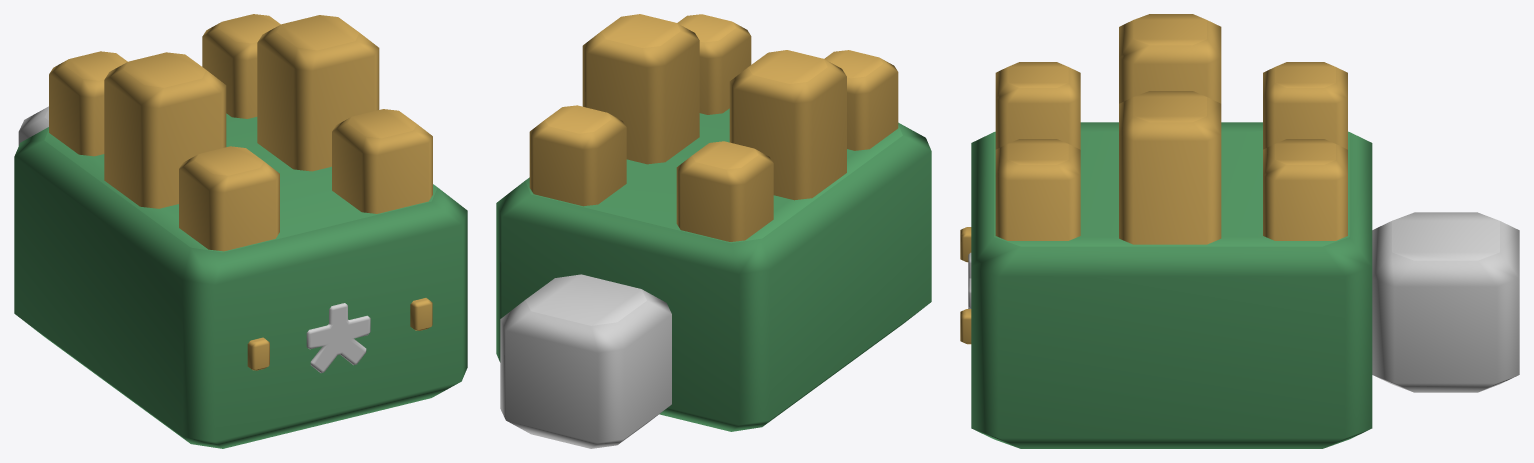
The picture shows the model from 3 angles, left to right: view 1: azimuth 30°, elevation 25°; view 2: azimuth 150°, elevation 25°; view 3: azimuth 270°, elevation 25°; orthographic projection. The views are drawn at different scales.
Parts seen in each view (by area): view 1: model; view 2: model; view 3: model.
Boxes of the visible parts, left/top/right/bottom form: model: left=14, top=14, right=467, bottom=448; model: left=496, top=14, right=931, bottom=448; model: left=960, top=14, right=1519, bottom=448.
Size of the model in its own units: 1.18 by 1.22 by 1.94.
